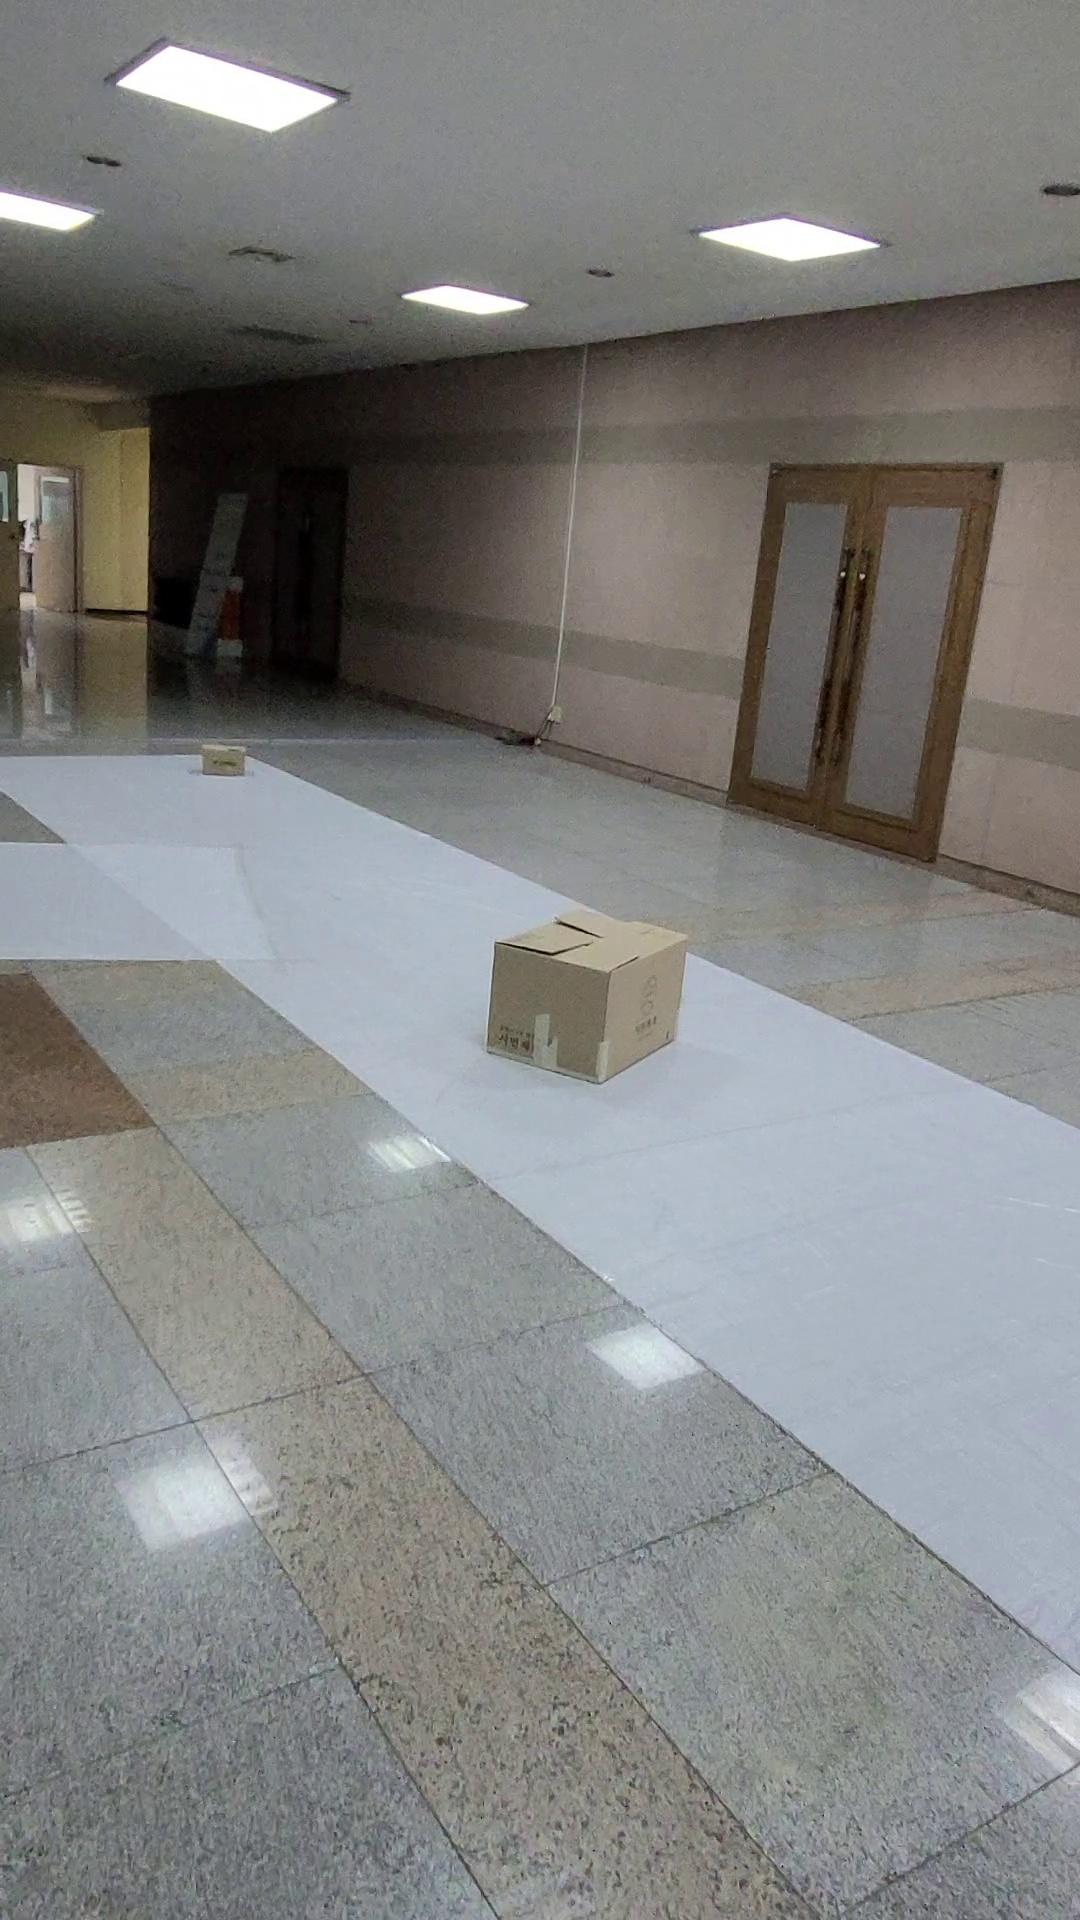Box: (471, 909, 712, 1085), (193, 731, 257, 781)
